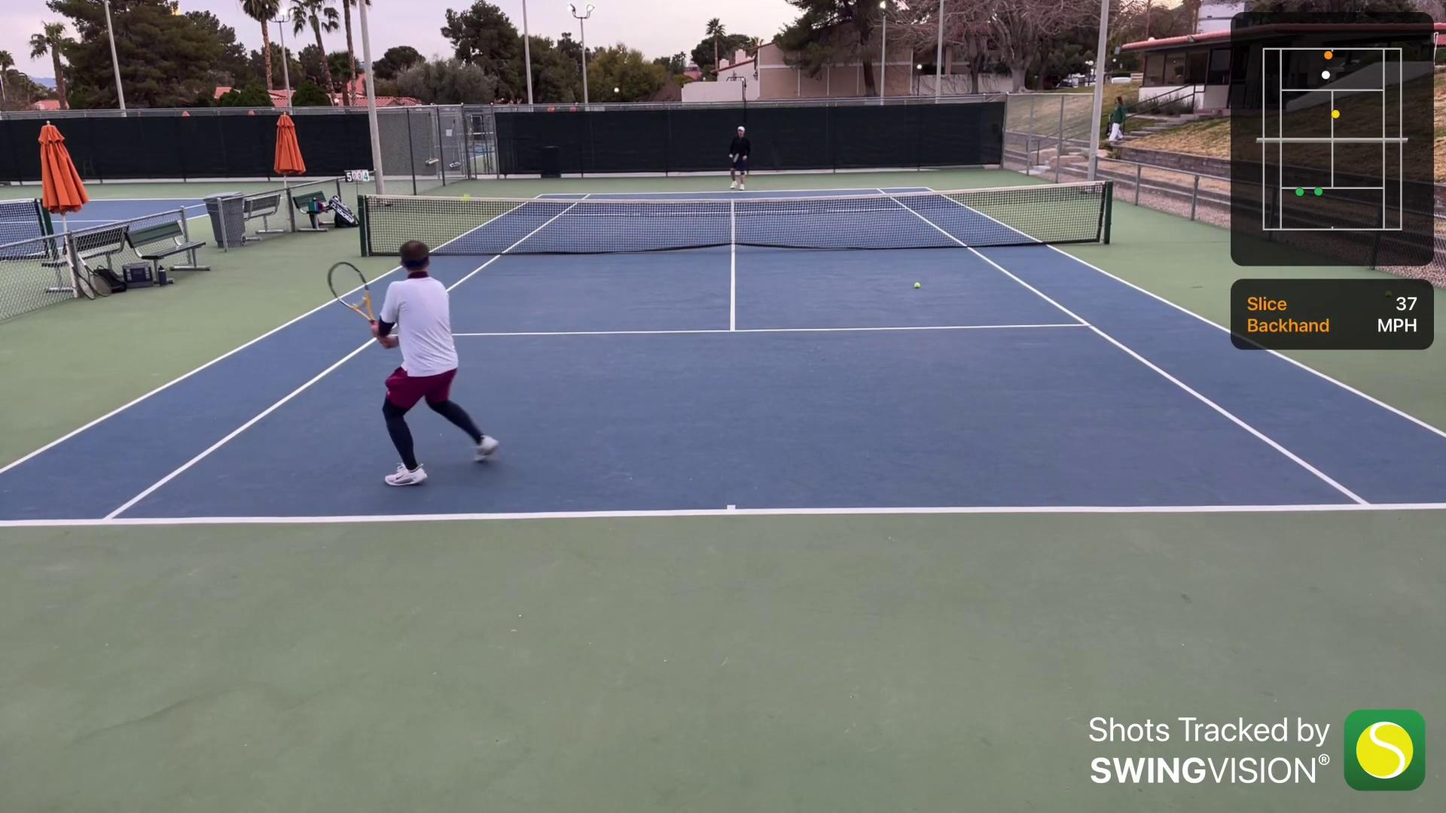ball: (461, 191, 470, 204), (911, 280, 922, 290)
